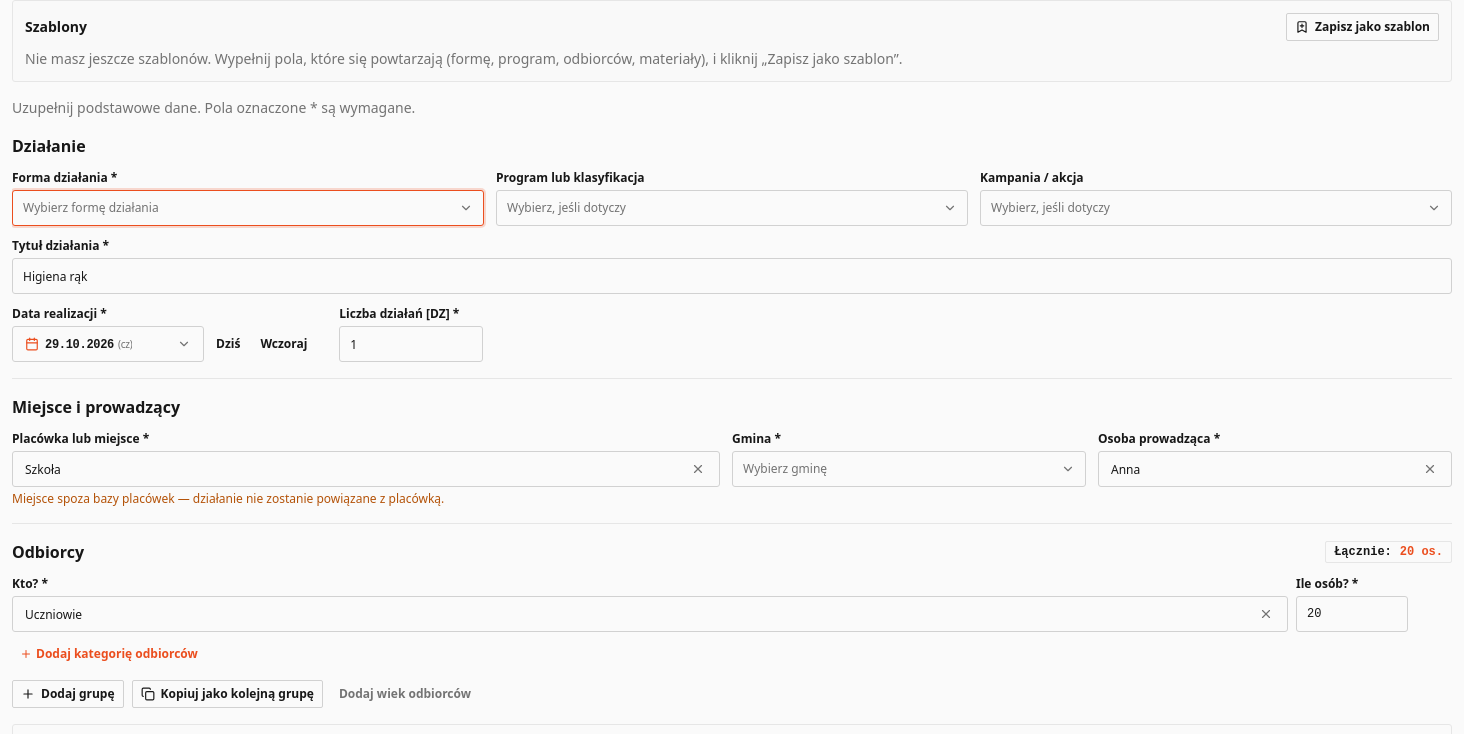
it: Action templates and repeated entry › keeps the template name and shows an error when persistence fails
Click the button "Zapisz jako szablon" at (1363, 27), box [1286,13,1439,41]
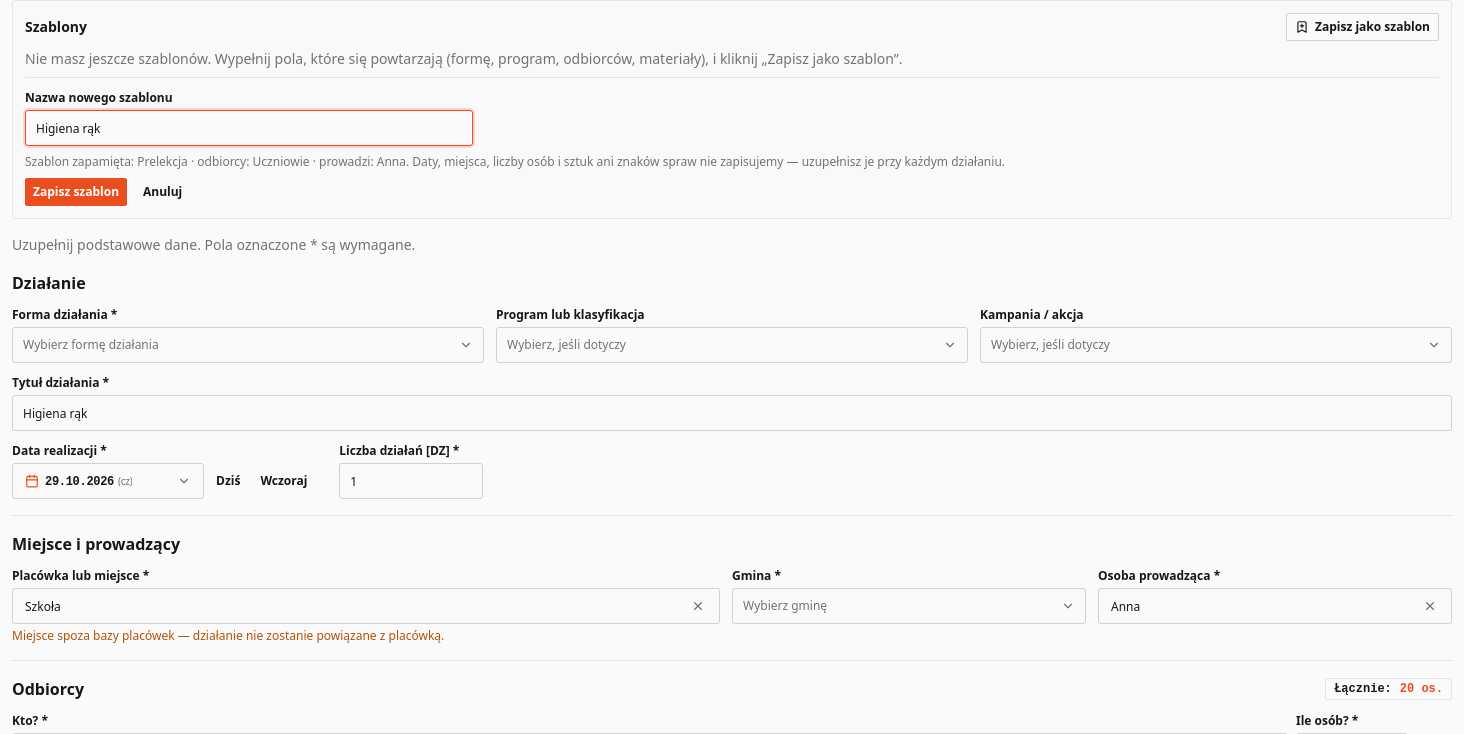
Click the button "Zapisz szablon" at (76, 192), box [25,178,127,206]
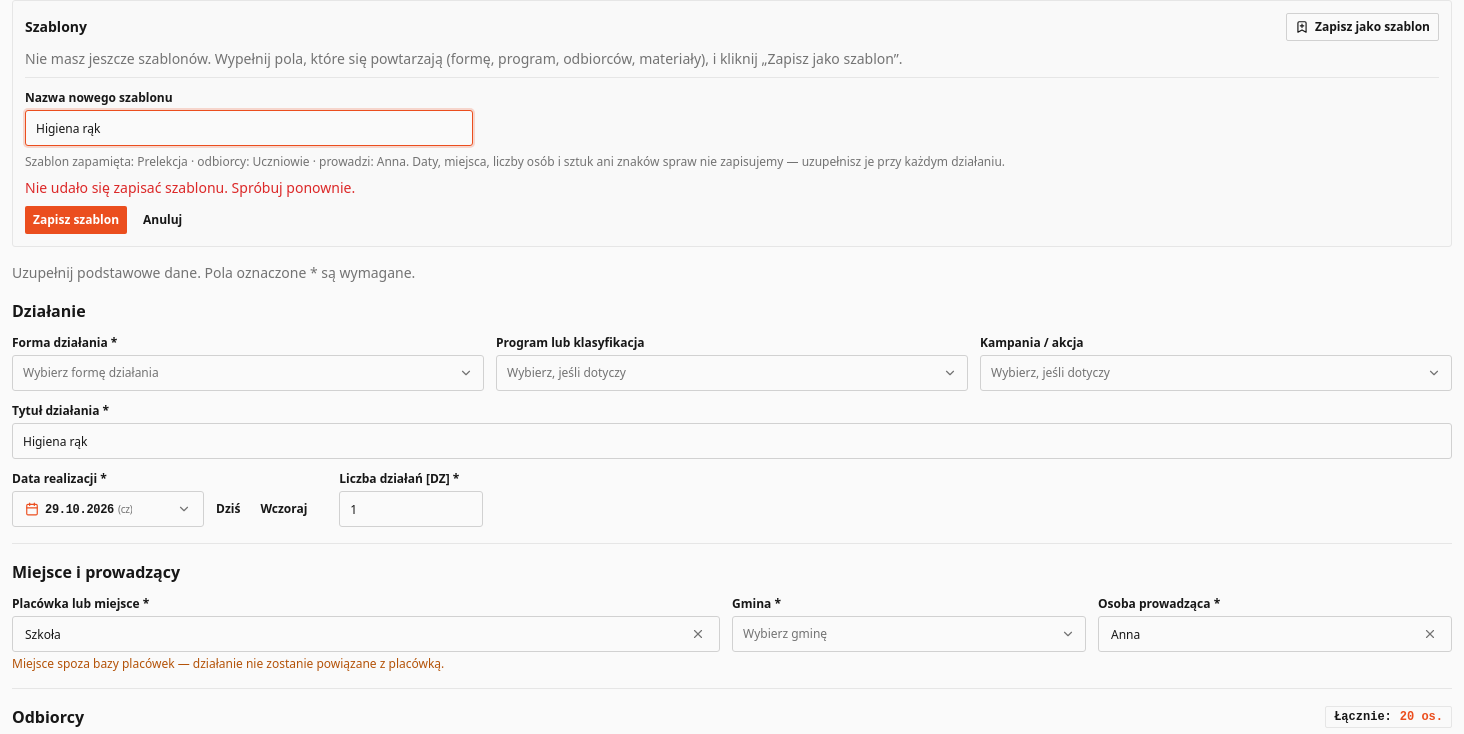
Result: the field labelled "Nazwa nowego szablonu" holds "Higiena rąk" at [25,110,473,146]
Result: the message shows "Nie udało się zapisać szablonu" at [25,178,355,197]
